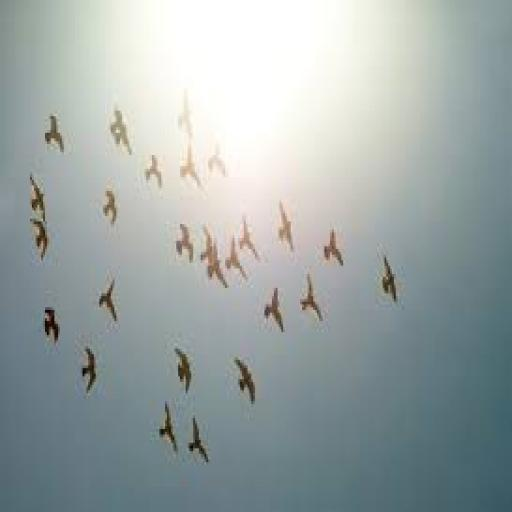birds: (372, 251, 403, 311), (270, 202, 302, 256), (317, 224, 348, 279), (228, 353, 260, 406), (168, 342, 199, 394), (164, 215, 193, 266), (296, 271, 323, 325), (261, 289, 288, 341), (184, 413, 212, 463), (39, 108, 70, 153), (150, 408, 180, 454), (143, 147, 170, 196), (98, 185, 127, 230), (77, 344, 101, 396), (93, 273, 121, 317), (25, 221, 55, 259), (171, 90, 196, 135), (208, 143, 233, 187), (37, 303, 63, 342), (24, 176, 50, 213), (241, 218, 260, 267), (225, 230, 242, 282), (179, 151, 199, 190), (199, 219, 214, 265), (105, 107, 139, 126), (113, 129, 138, 152), (203, 254, 222, 284)
